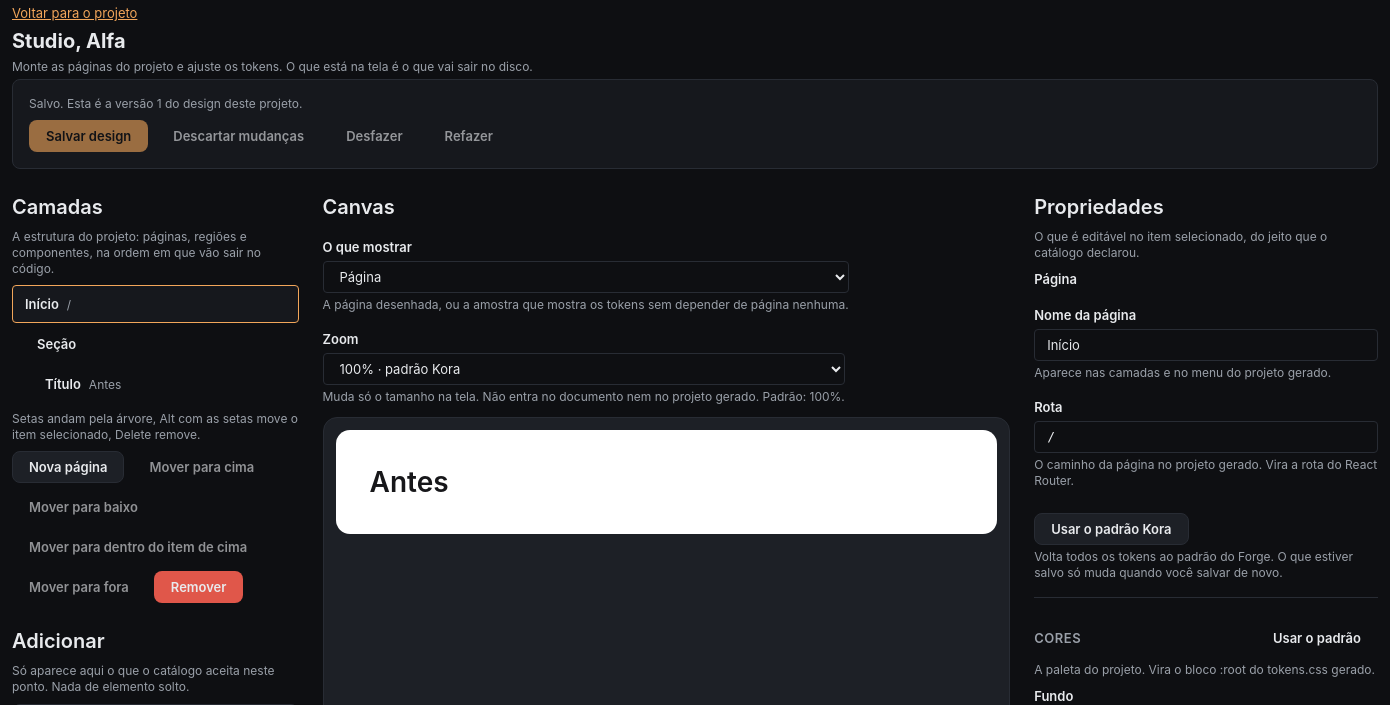
Test: montar a estrutura › editar uma prop muda o canvas na hora, sem passar pela API
(page scrolled)
Click the list item "Título Antes" at x=83, y=384, box [45,376,121,392]
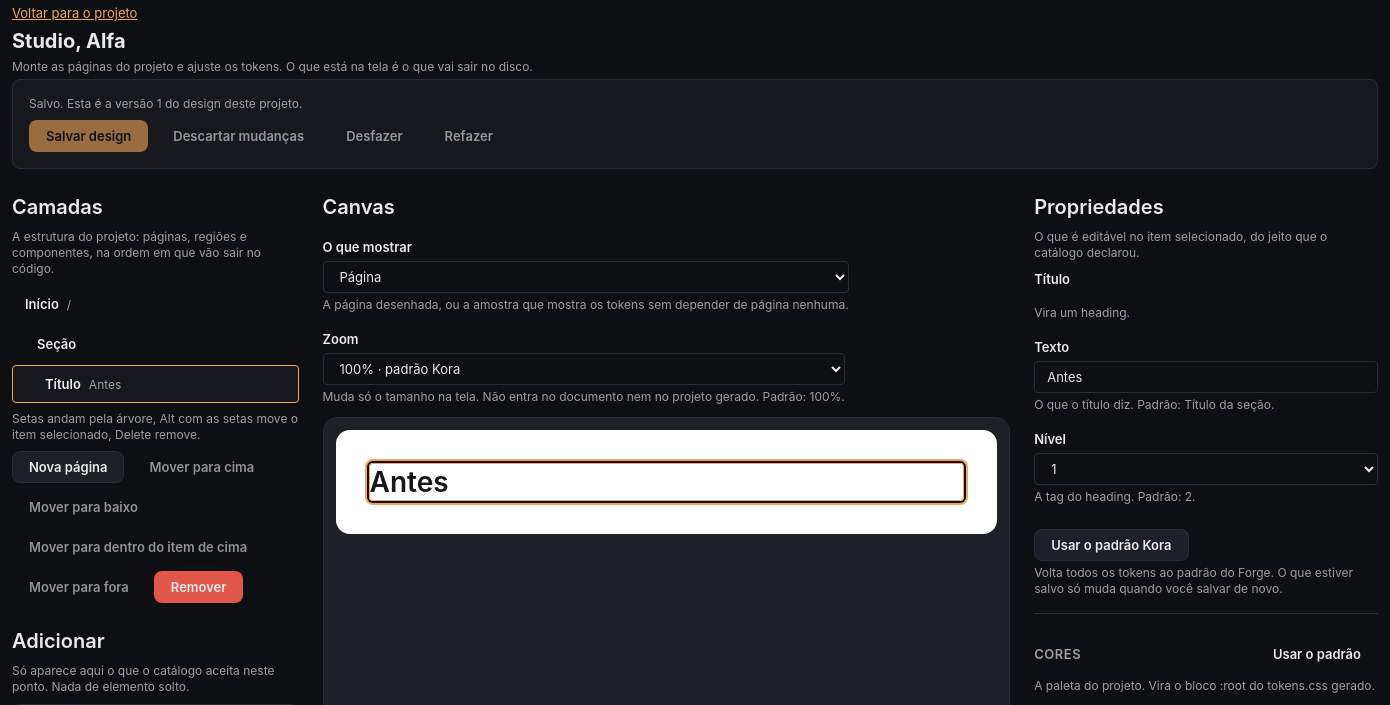
Replace the text in the field labelled "Texto" with "Depois" at x=1206, y=377, box [1034,361,1378,393]
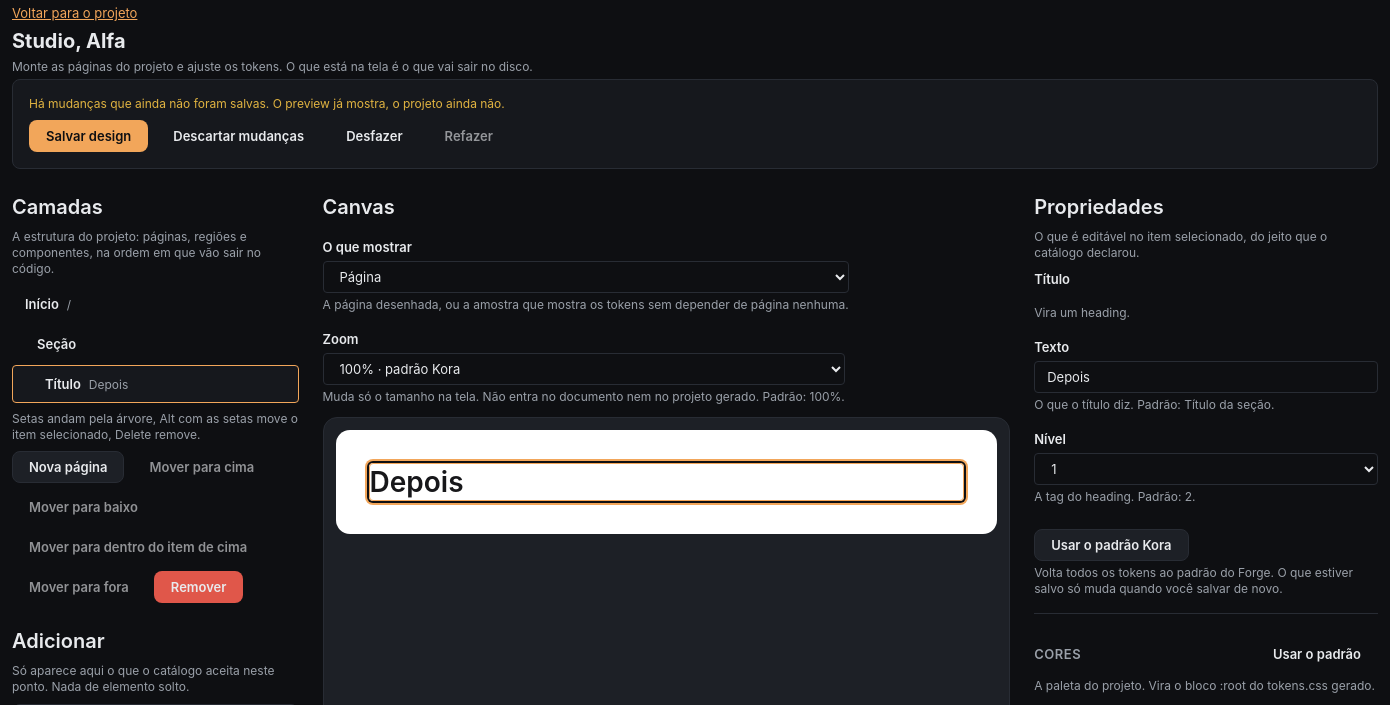
Result: the heading "Depois" is shown at [370,465,464,499]
Result: the list item "Título Depois" is shown at [12,365,298,403]
